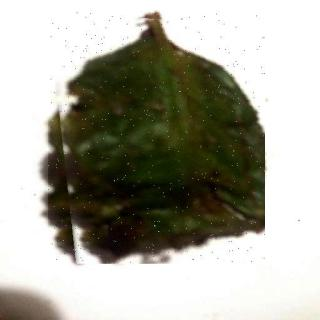Red Leaf Spot: (49, 14, 266, 265)
